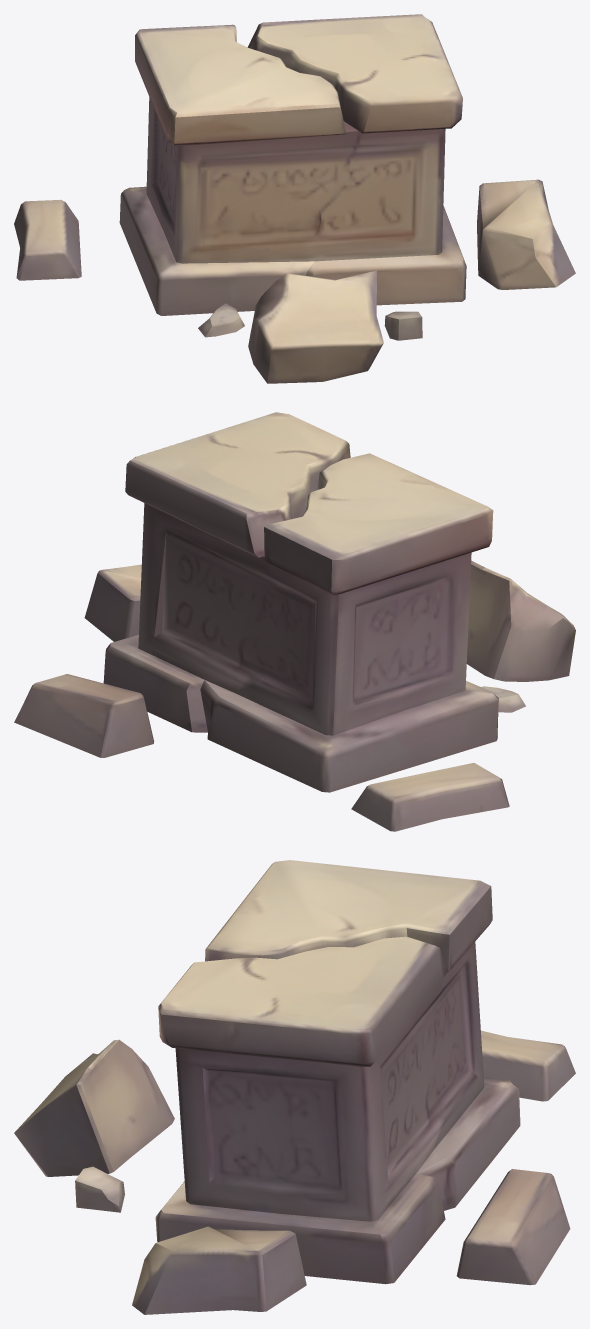
The model's file is SM_RuinBlock_01.fbx.
The picture shows the model from 3 angles, top to bottom: view 1: azimuth 30°, elevation 25°; view 2: azimuth 150°, elevation 25°; view 3: azimuth 270°, elevation 25°; orthographic projection. The views are drawn at different scales.
Visible parts, largest first — view 1: SM_RuinBlock_01; view 2: SM_RuinBlock_01; view 3: SM_RuinBlock_01.
Part boxes in pixels (x1,y1,x2,y2): SM_RuinBlock_01: (14,14,575,383); SM_RuinBlock_01: (14,412,575,831); SM_RuinBlock_01: (14,860,575,1314).
Bounding box in the file's own units: 82.25 × 38.18 × 72.26.
1 material, 1 textured.
